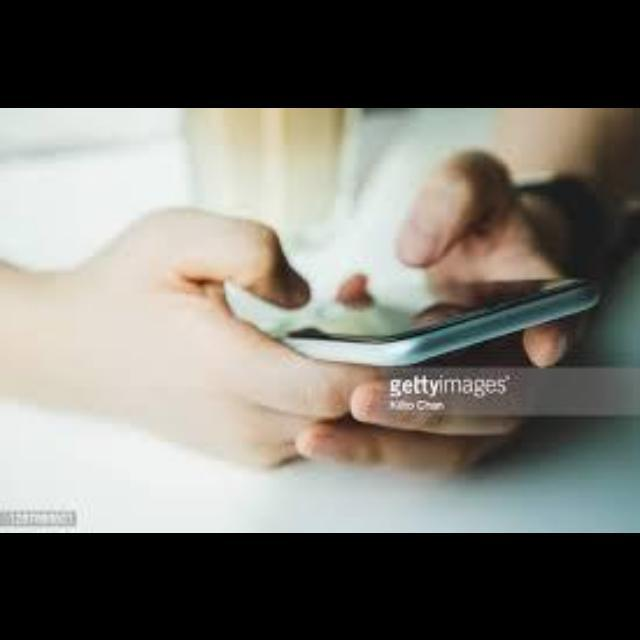phone: (205, 216, 619, 410)
